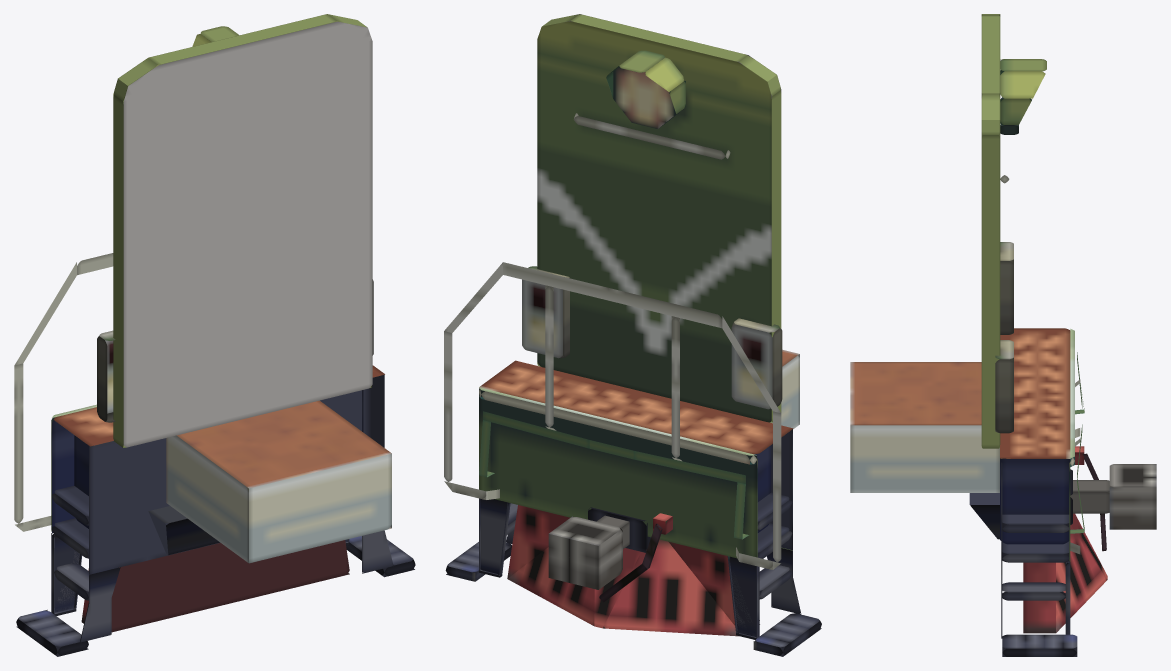
Rendered from dfh21_end_face_2.obj.
The picture shows the model from 3 angles, left to right: view 1: azimuth 30°, elevation 25°; view 2: azimuth 150°, elevation 25°; view 3: azimuth 270°, elevation 25°; orthographic projection. The views are drawn at different scales.
Parts seen in each view (by area): view 1: cube_selection; view 2: cube_selection; view 3: cube_selection.
Part boxes in pixels (x1,y1,x2,y2): cube_selection: [14, 14, 415, 656]; cube_selection: [444, 14, 821, 656]; cube_selection: [850, 14, 1156, 656].
Size of the model in its own units: 2.5 by 3.86 by 2.05.
